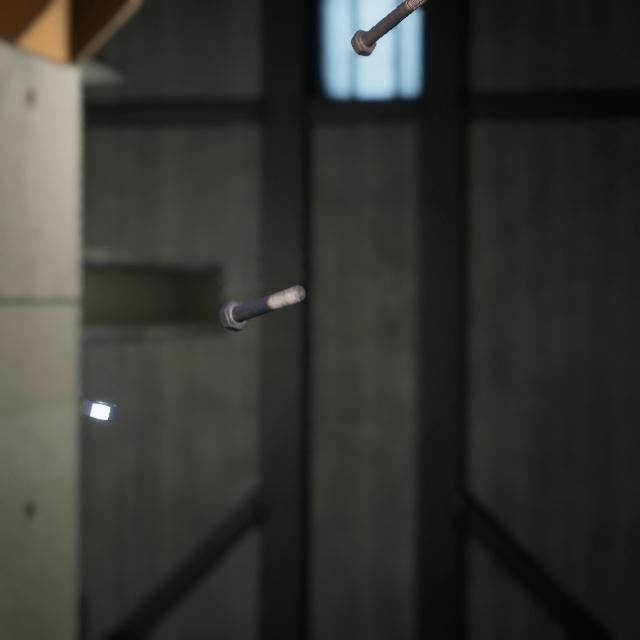bolt: (214, 262, 310, 318), (346, 0, 424, 54)
nut: (76, 375, 123, 406)
